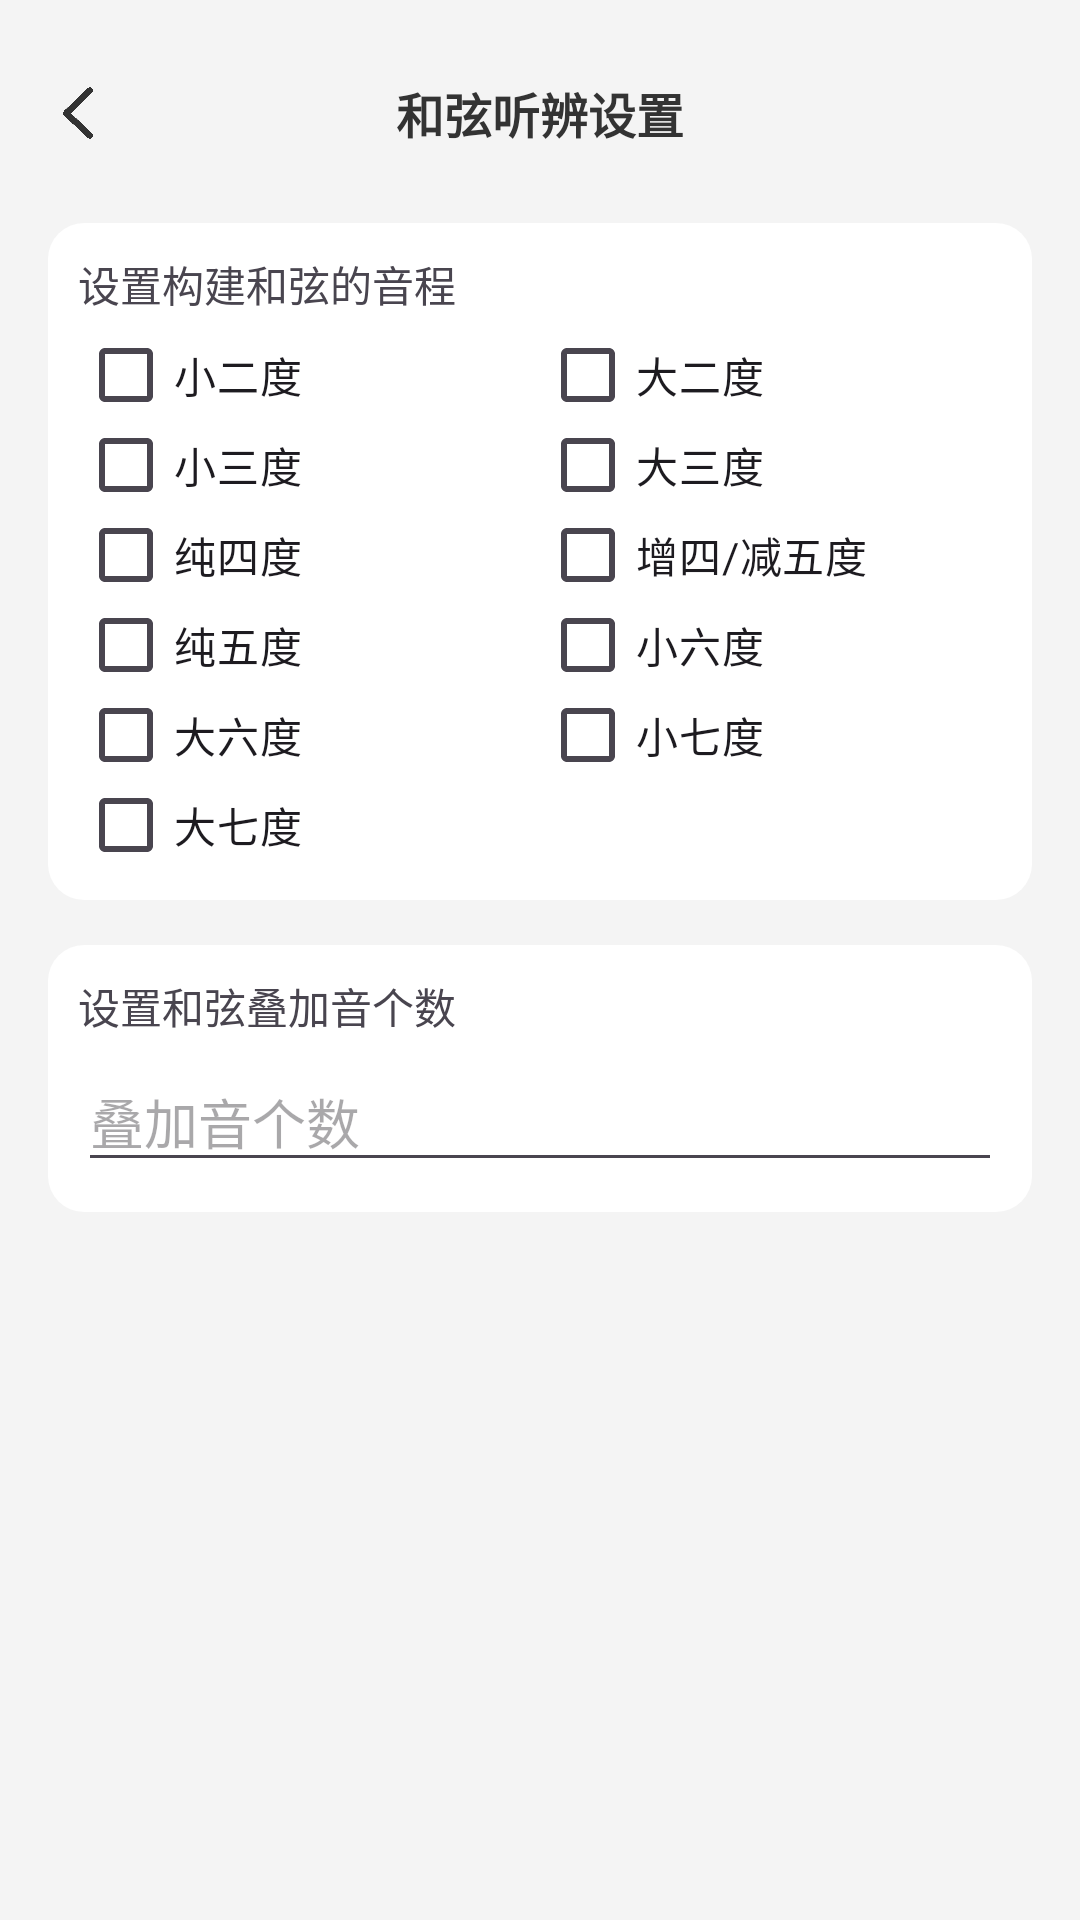

Where to tap for icons on this 1080px x 1920px app screen, as (x,y):
back: (78,113)
